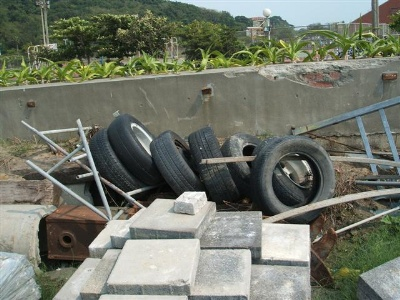tire: (252, 136, 336, 223), (89, 129, 155, 201), (186, 126, 242, 202), (108, 114, 163, 184), (149, 131, 204, 197)
